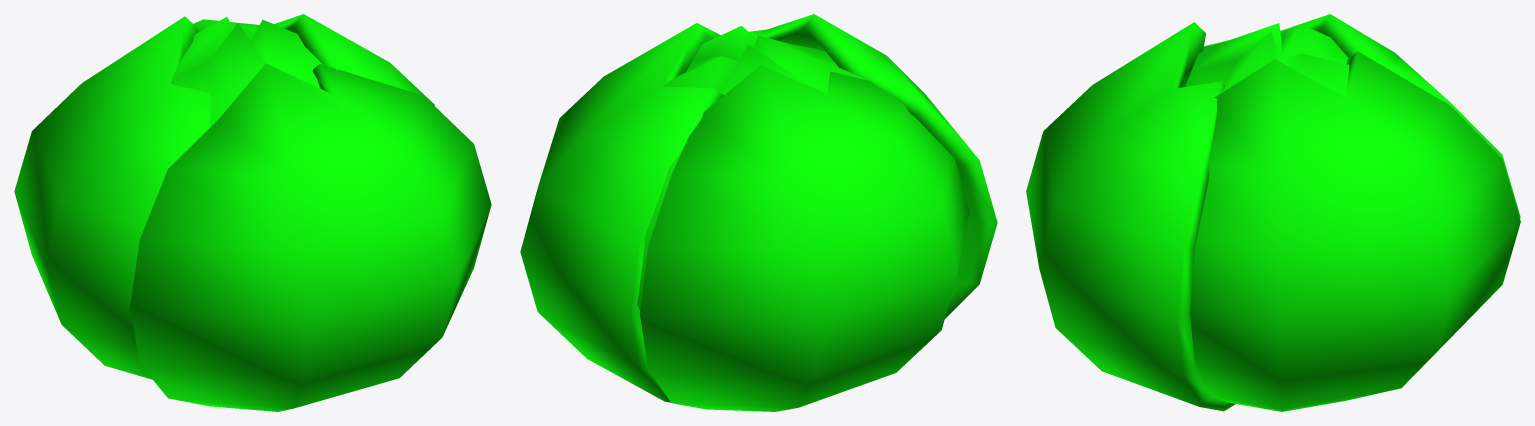
File: SM_Lettuce.fbx
3 views of the same model, side by side, from view 1: azimuth 30°, elevation 25°; view 2: azimuth 150°, elevation 25°; view 3: azimuth 270°, elevation 25° (orthographic).
Parts seen in each view (by area): view 1: SM_Lettuce; view 2: SM_Lettuce; view 3: SM_Lettuce.
Boxes of the visible parts, box(x1,y1,x2,y2) form: SM_Lettuce: box(14, 14, 491, 411); SM_Lettuce: box(520, 14, 997, 411); SM_Lettuce: box(1026, 14, 1520, 411).
Size of the model in its own units: 114 by 94.92 by 118.
